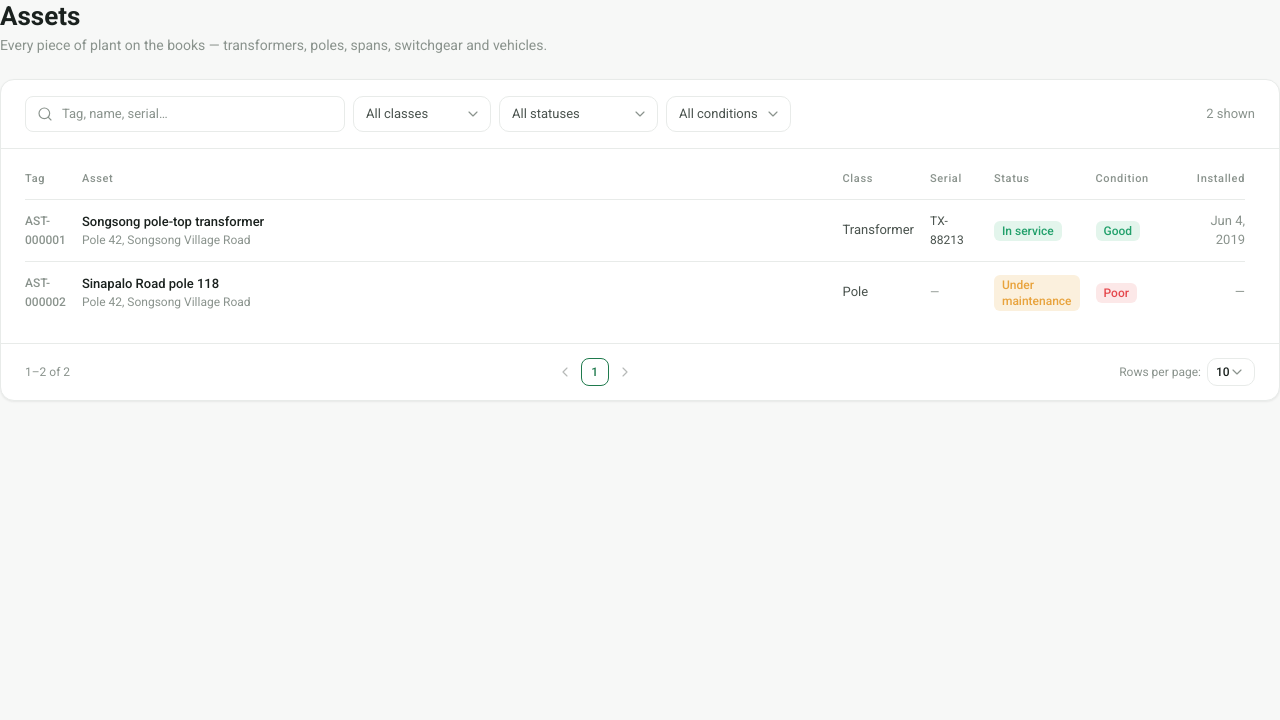
AssetsPage › opens a drawer for the activated row and closes it again
The image size is (1280, 720).
Expected: the text "Songsong pole-top transformer" is shown, [82, 214, 264, 229]
Click the button "Songsong pole-top transformer Pole 42, Songsong Village Road".
click(173, 222)  # box [82, 213, 826, 248]
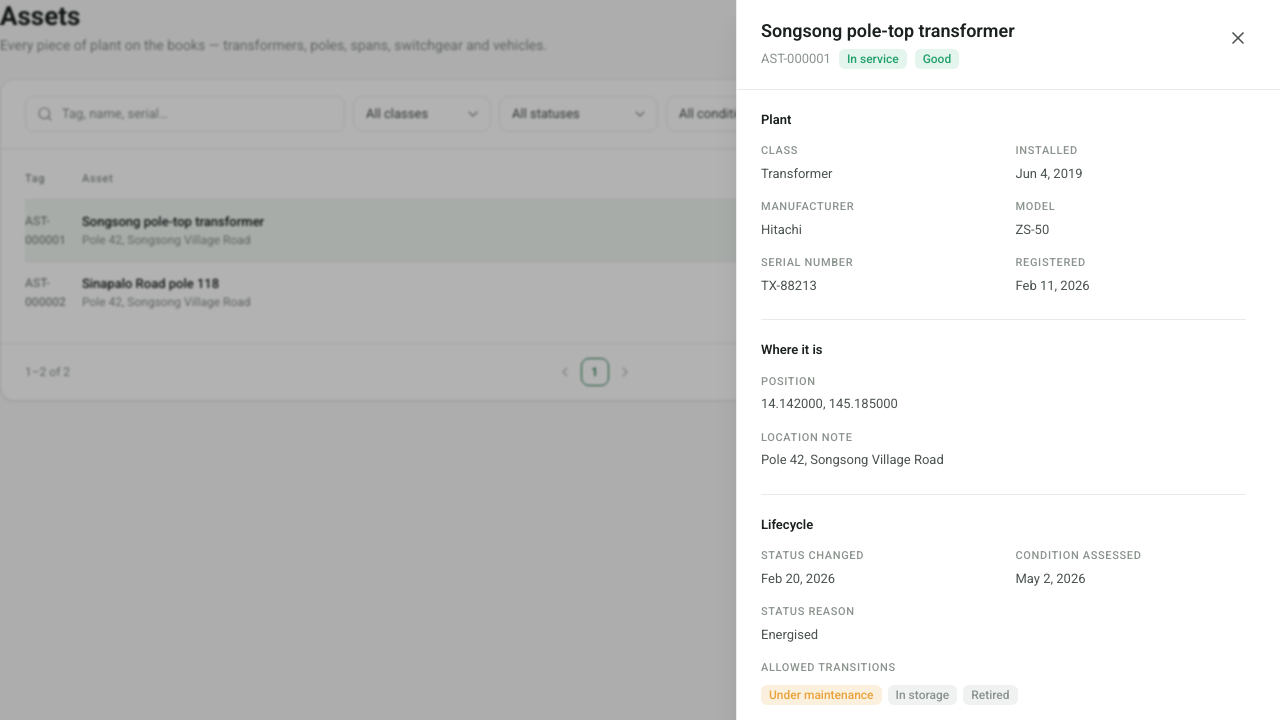
Expected: the text "Hitachi" is shown, [761, 222, 802, 236]
Expected: the text "TX-88213" is shown, [761, 278, 817, 292]
Expected: the text "14.142000, 145.185000" is shown, [761, 396, 898, 411]
Press Escape
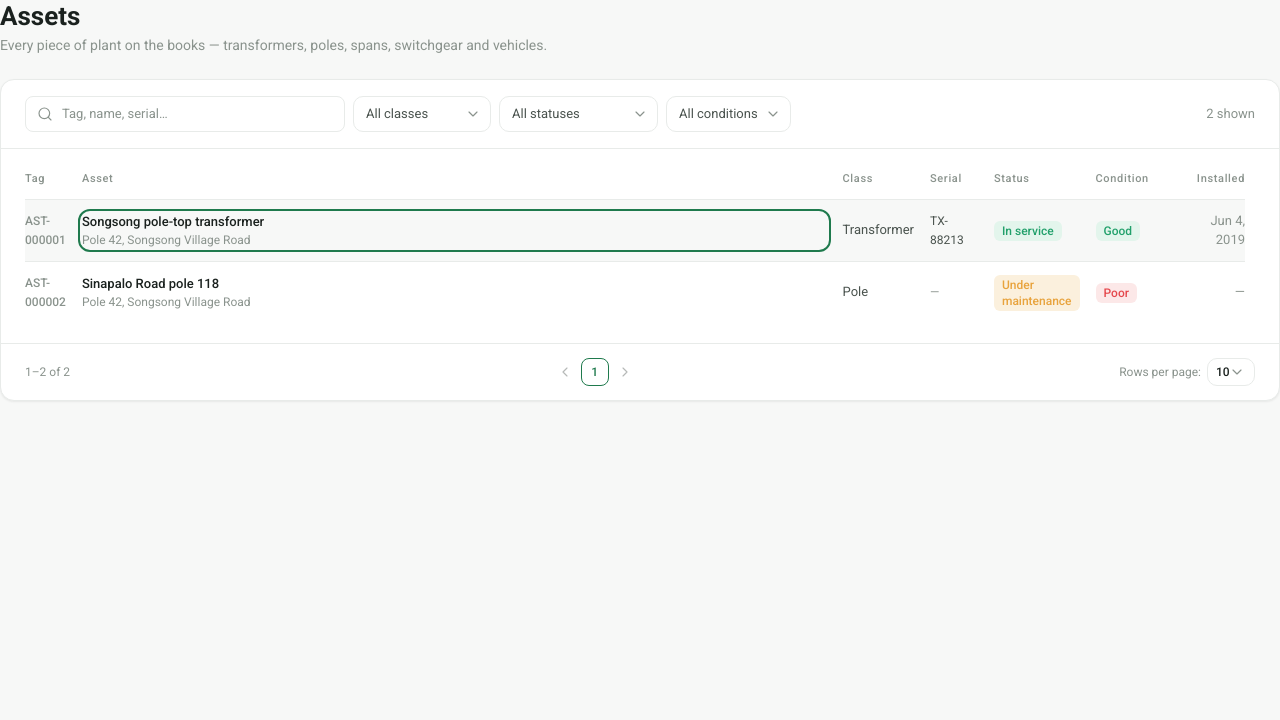
Expected: the dialog is gone
